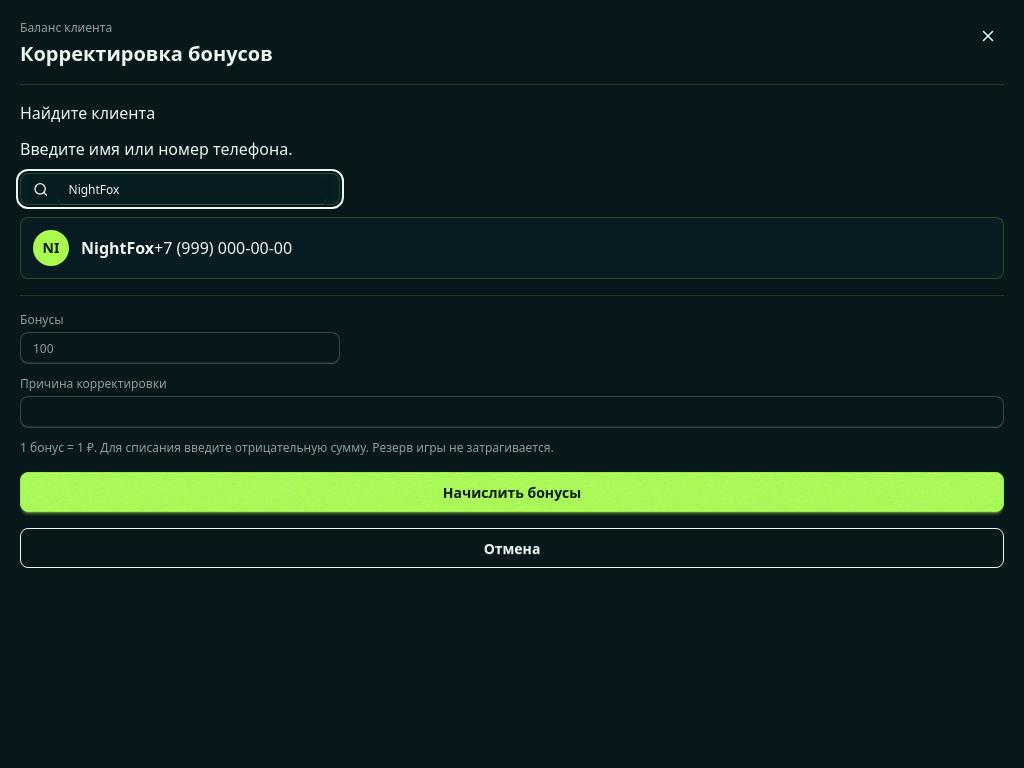
Test: Точная корректировка бонусов › не округляет лишние знаки и требует причину
This screenshot has width=1024, height=768.
Replace the text in the field named "Количество бонусов" with "1,005": (180, 348) [20,332,340,364]
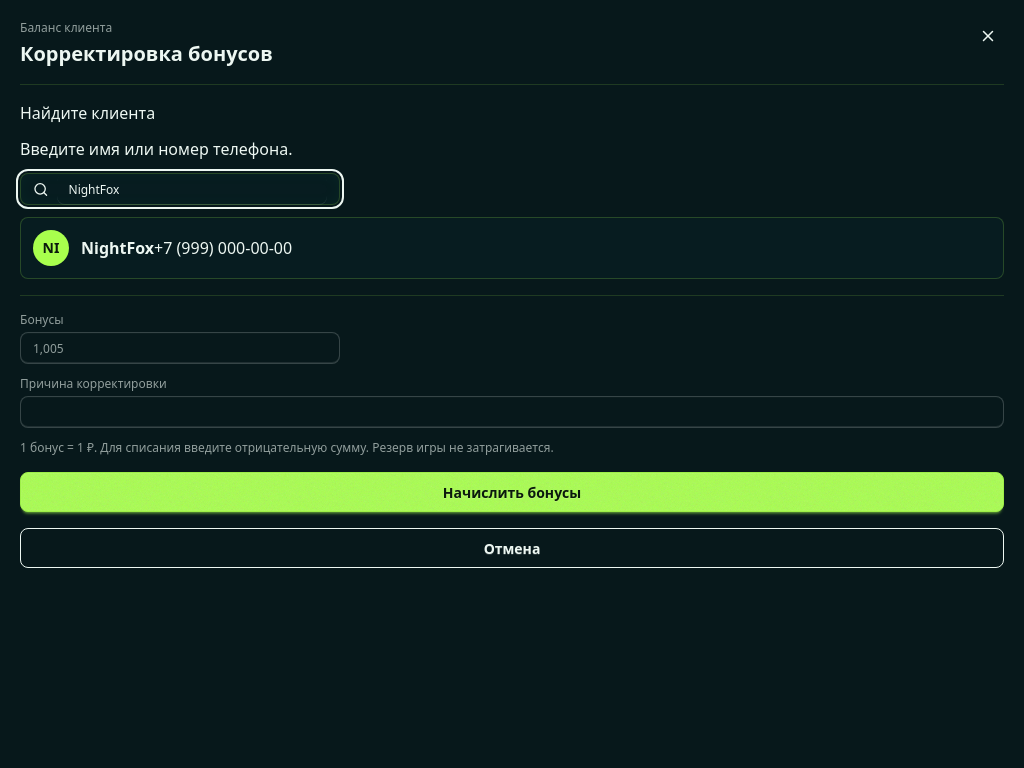
Click the button "Начислить бонусы": (512, 492) [20,472,1004,512]
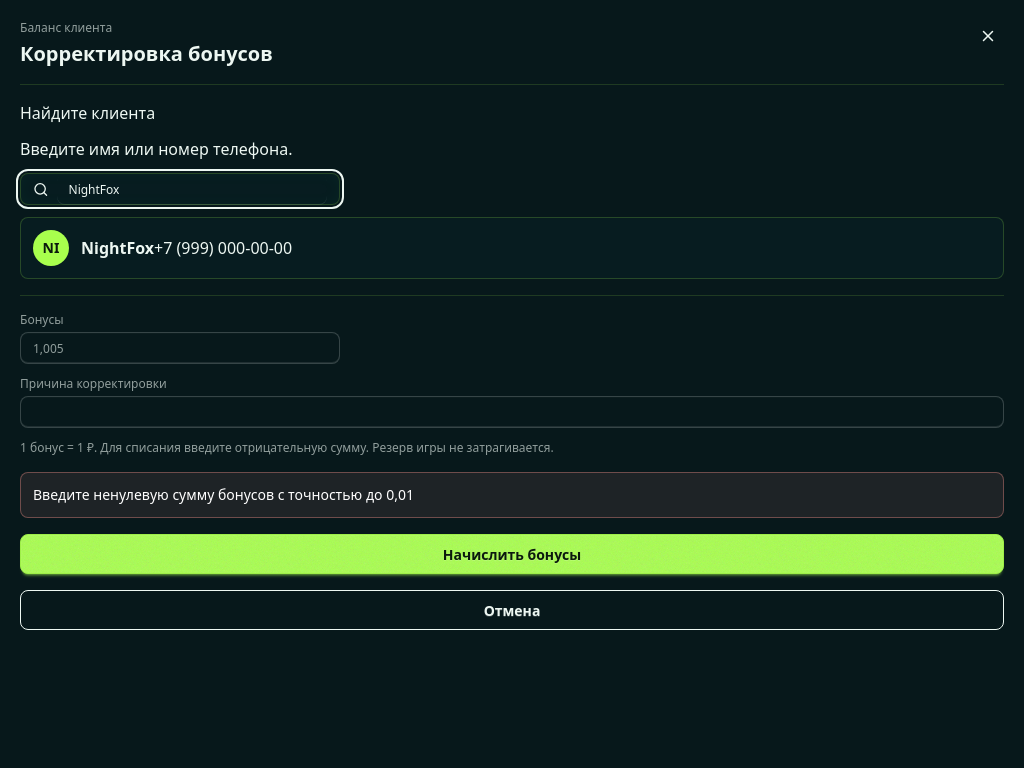
Now the message shows "точностью до 0,01", box [33,485,414,504]
Replace the text in the field named "Количество бонусов" with "1": (180, 348) [20,332,340,364]
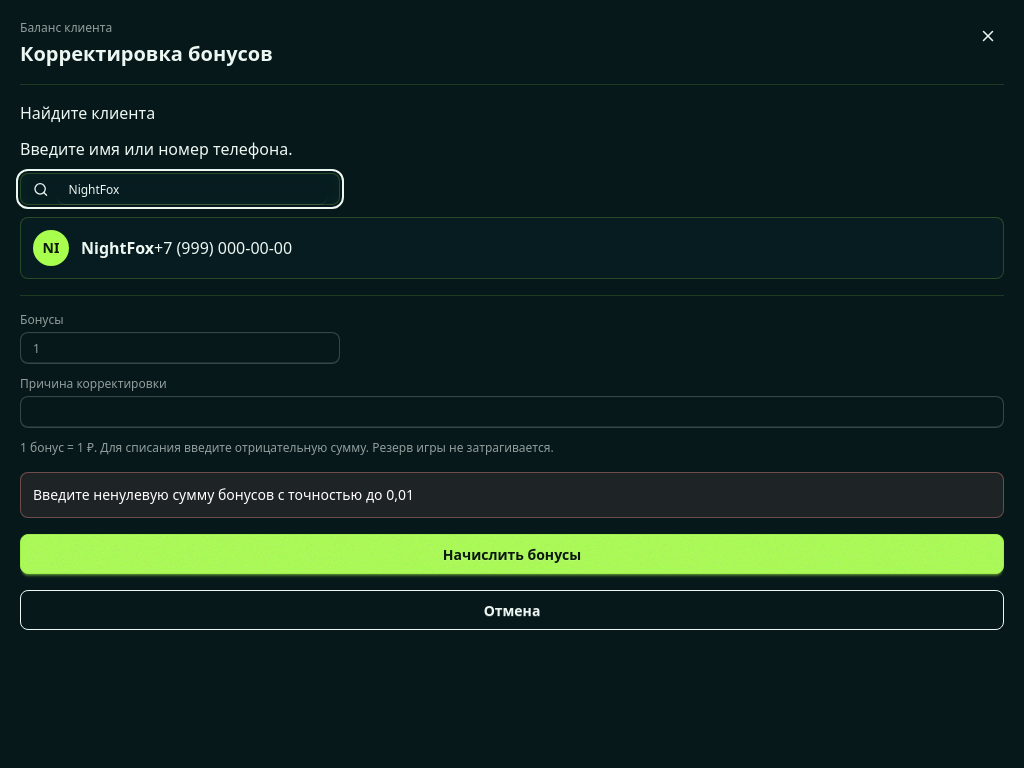
Click the button "Начислить бонусы": (512, 554) [20,534,1004,574]
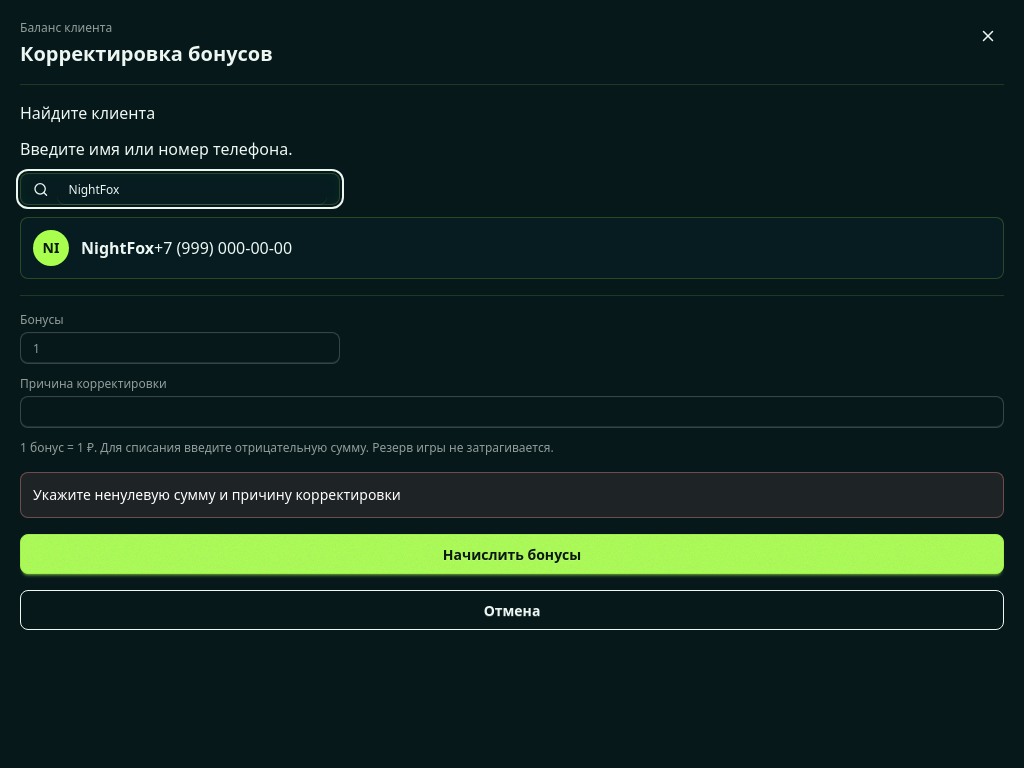
Now the message shows "причину", box [33,485,401,504]
